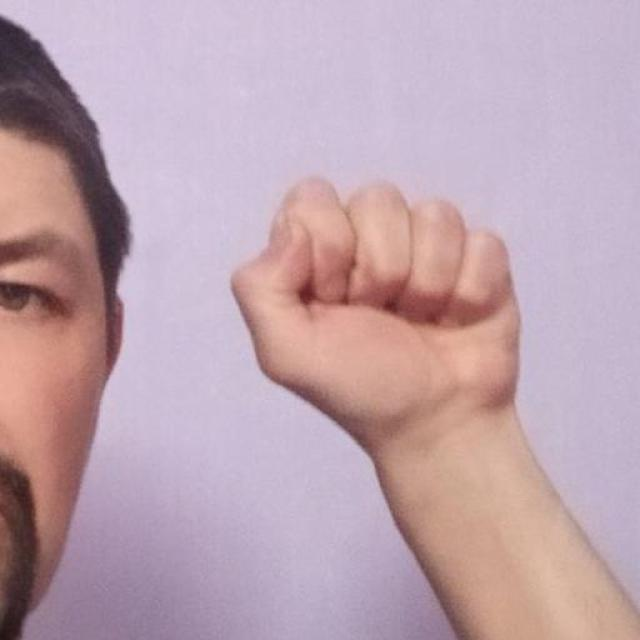hand: (228, 174, 524, 458)
